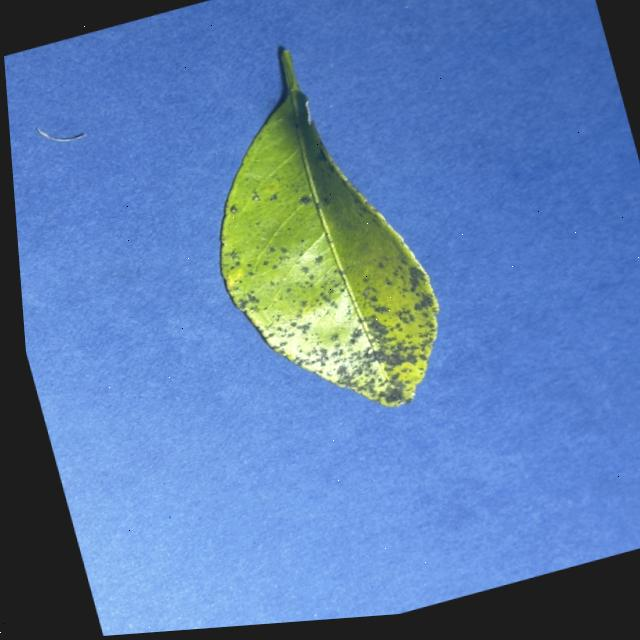sooty_mold: (221, 51, 438, 406)
